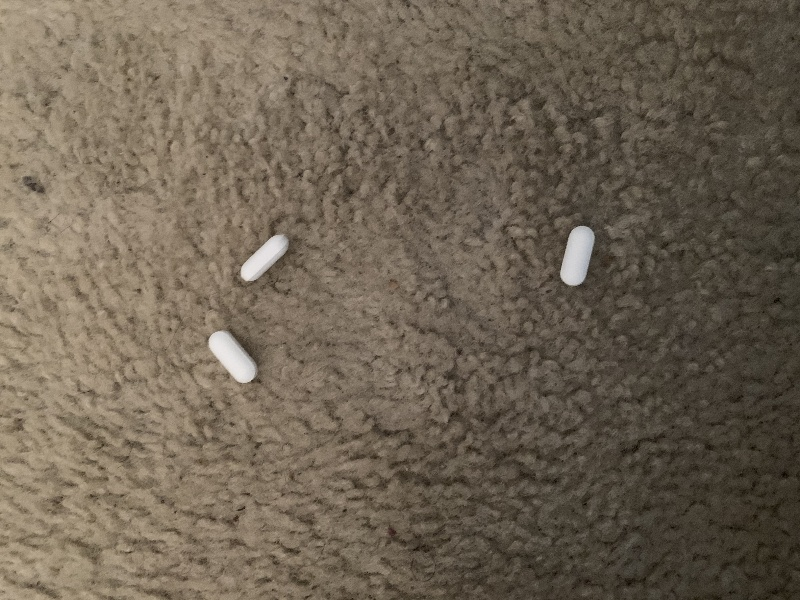Tylenol: (204, 324, 266, 393), (237, 232, 292, 284), (558, 222, 598, 289)
